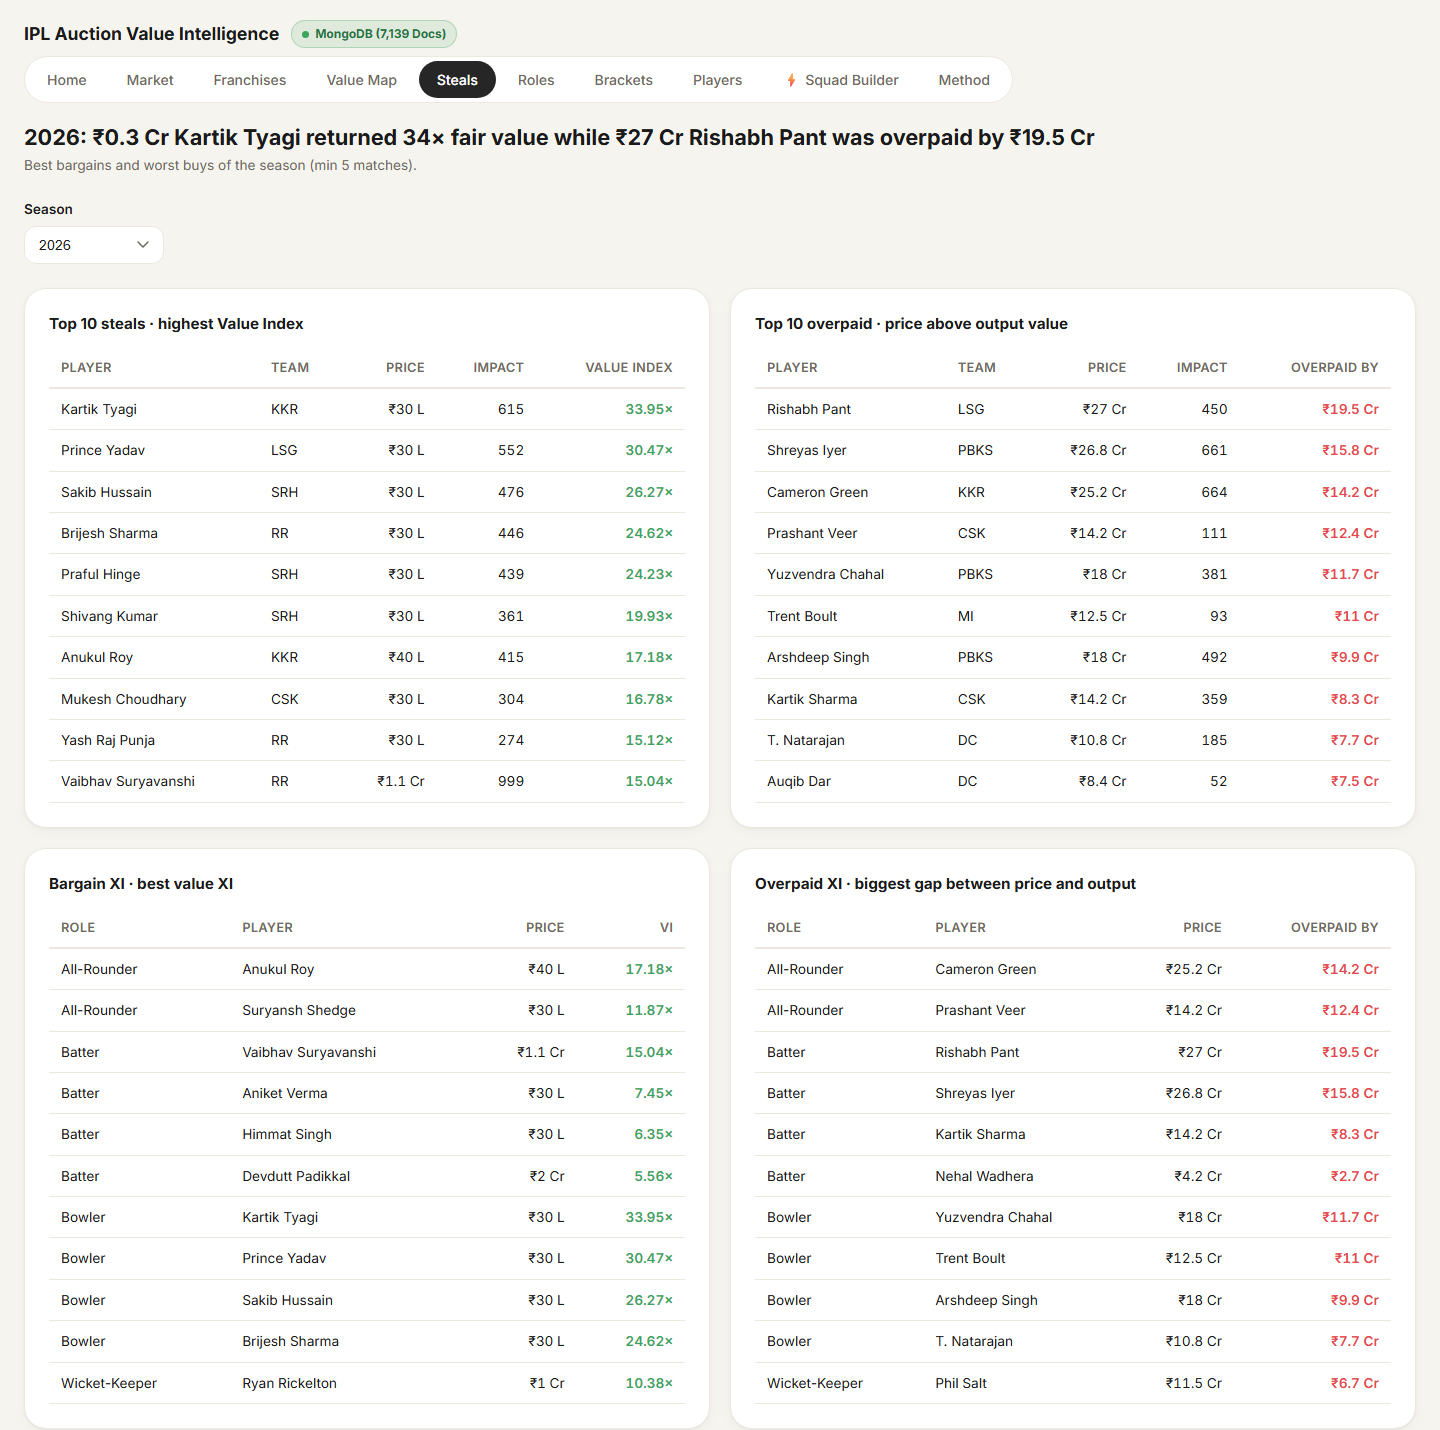

This screenshot's page, from the dashboard's own definition file:
{"tool":"powerbi","page":{"name":"4 Steals and Overpaid","canvas":[1280,720],"ordinal":4},"visuals":[{"type":"textbox","box":[16,8,270,66],"z":1000},{"type":"textbox","box":[300,14,748,44],"z":2000},{"type":"actionButton","title":"Home","box":[306,20,88,32],"z":3000},{"type":"actionButton","title":"Market","box":[398,20,88,32],"z":4000},{"type":"actionButton","title":"Franchises","box":[490,20,88,32],"z":5000},{"type":"actionButton","title":"Value Map","box":[582,20,88,32],"z":6000},{"type":"actionButton","title":"Steals","box":[674,20,88,32],"z":7000},{"type":"actionButton","title":"Roles","box":[766,20,88,32],"z":8000},{"type":"actionButton","title":"Brackets","box":[858,20,88,32],"z":9000},{"type":"actionButton","title":"Method","box":[950,20,88,32],"z":10000},{"type":"actionButton","title":"i","box":[1062,14,44,44],"z":11000},{"type":"textbox","box":[16,74,1248,50],"z":12000},{"type":"textbox","box":[16,130,196,84],"z":13000},{"type":"slicer","fields":{"Values":["DimSeason.Season"]},"box":[24,140,180,64],"z":14000},{"type":"tableEx","fields":{"Values":["UnsoldPlayers.Player","_Measures.Unsold Career Impact"]},"box":[16,224,196,232],"z":15000},{"type":"textbox","box":[16,466,196,238],"z":16000},{"type":"tableEx","title":"Top 10 steals · highest Value Index","fields":{"Values":["DimPlayer.PlayerName","_Measures.Teams Played For","_Measures.Spend Cr","_Measures.Priced Impact","_Measures.Lakh per Point","_Measures.Value Index (min 5 matches)"]},"box":[224,130,515,280],"z":17000},{"type":"tableEx","title":"Top 10 overpaid · price above output value","fields":{"Values":["DimPlayer.PlayerName","_Measures.Teams Played For","_Measures.Spend Cr","_Measures.Priced Impact","_Measures.Lakh per Point","_Measures.Overpay Cr"]},"box":[749,130,515,280],"z":18000},{"type":"tableEx","title":"Bargain XI · 4 batters, 1 keeper, 2 all-rounders, 4 bowlers","fields":{"Values":["DimPlayer.Role","DimPlayer.PlayerName","_Measures.Spend Cr","_Measures.Value Index"]},"box":[224,420,515,284],"z":19000},{"type":"tableEx","title":"Overpaid XI · biggest gap between price and output","fields":{"Values":["DimPlayer.Role","DimPlayer.PlayerName","_Measures.Spend Cr","_Measures.Overpay Cr"]},"box":[749,420,515,284],"z":20000}]}

Visuals, with their boxes on the page's 1280x720 design canvas (x1, y1, x2, y2). These are canvas units, not pixel positions in the 1440x1430 screenshot, which may show the page scaled, cropped or inside an application window:
textbox: {"left": 16, "top": 8, "right": 286, "bottom": 74}
textbox: {"left": 300, "top": 14, "right": 1048, "bottom": 58}
"Home" actionButton: {"left": 306, "top": 20, "right": 394, "bottom": 52}
"Market" actionButton: {"left": 398, "top": 20, "right": 486, "bottom": 52}
"Franchises" actionButton: {"left": 490, "top": 20, "right": 578, "bottom": 52}
"Value Map" actionButton: {"left": 582, "top": 20, "right": 670, "bottom": 52}
"Steals" actionButton: {"left": 674, "top": 20, "right": 762, "bottom": 52}
"Roles" actionButton: {"left": 766, "top": 20, "right": 854, "bottom": 52}
"Brackets" actionButton: {"left": 858, "top": 20, "right": 946, "bottom": 52}
"Method" actionButton: {"left": 950, "top": 20, "right": 1038, "bottom": 52}
"i" actionButton: {"left": 1062, "top": 14, "right": 1106, "bottom": 58}
textbox: {"left": 16, "top": 74, "right": 1264, "bottom": 124}
textbox: {"left": 16, "top": 130, "right": 212, "bottom": 214}
slicer - DimSeason.Season: {"left": 24, "top": 140, "right": 204, "bottom": 204}
tableEx - UnsoldPlayers.Player x _Measures.Unsold Career Impact: {"left": 16, "top": 224, "right": 212, "bottom": 456}
textbox: {"left": 16, "top": 466, "right": 212, "bottom": 704}
"Top 10 steals · highest Value Index" tableEx: {"left": 224, "top": 130, "right": 739, "bottom": 410}
"Top 10 overpaid · price above output value" tableEx: {"left": 749, "top": 130, "right": 1264, "bottom": 410}
"Bargain XI · 4 batters, 1 keeper, 2 all-rounders, 4 bowlers" tableEx: {"left": 224, "top": 420, "right": 739, "bottom": 704}
"Overpaid XI · biggest gap between price and output" tableEx: {"left": 749, "top": 420, "right": 1264, "bottom": 704}
